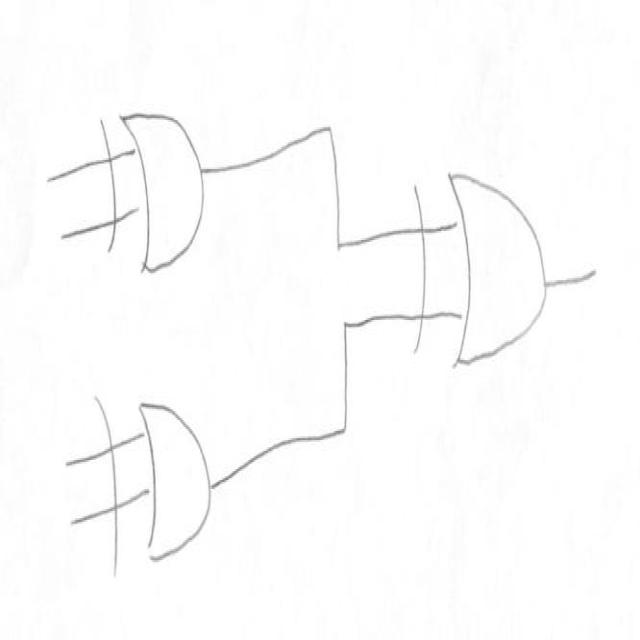XOR: (397, 146, 557, 377), (89, 372, 238, 573), (86, 104, 224, 297)
